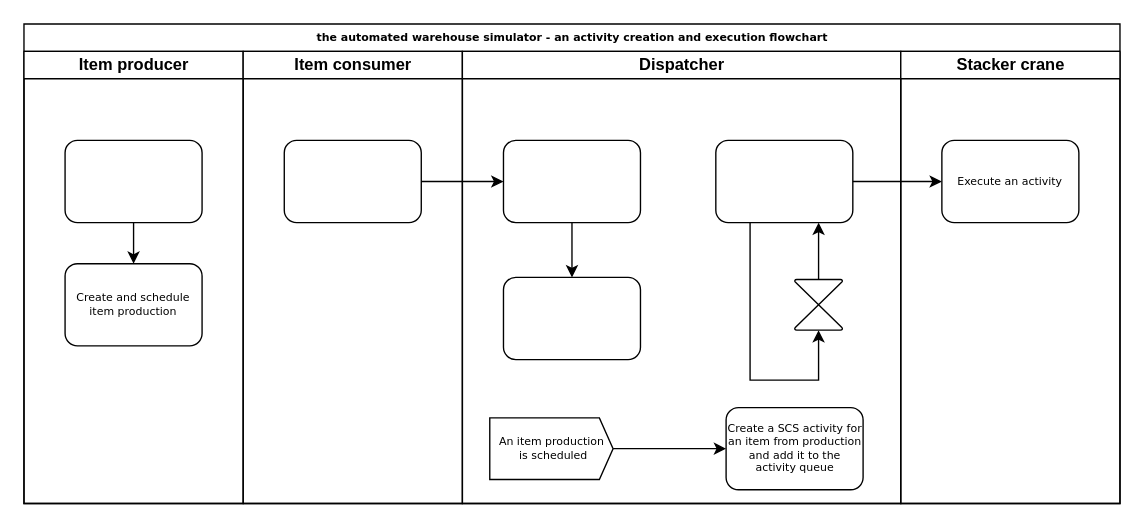
Image size: 1144x527. Some labels were removed from this diagram. The centre of each missing label's shape, as x and y in pixels:
"Convert the schedule to SCU activities and insert it to the activity queue" belongs at (571,318).
"Create the schedule from entries" belongs at (571,181).
"Parse production entries" belongs at (133,181).
"Parsing expedition entries" belongs at (352,181).
"Select an activity from the activity queue" belongs at (783,181).
